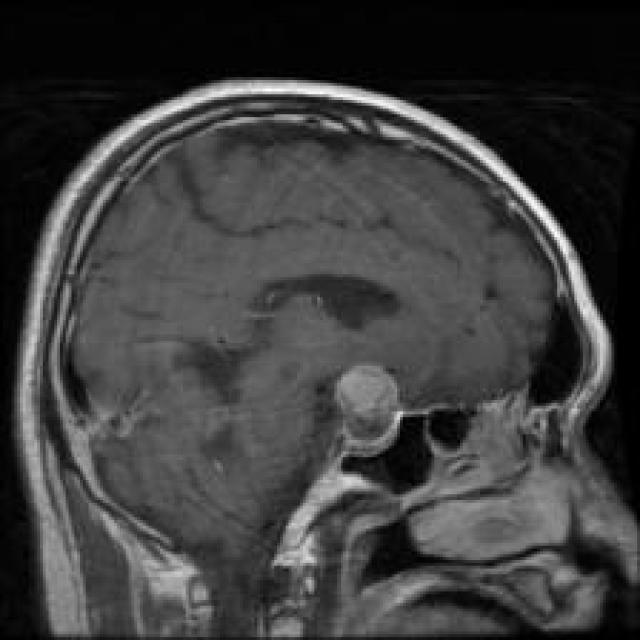pituitary_tumor: (313, 345, 422, 470)
